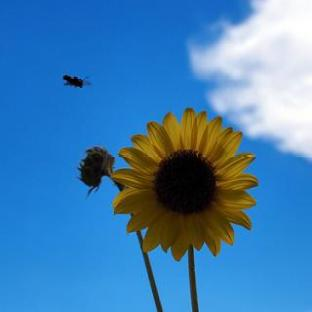sunflower: (110, 108, 260, 312)
